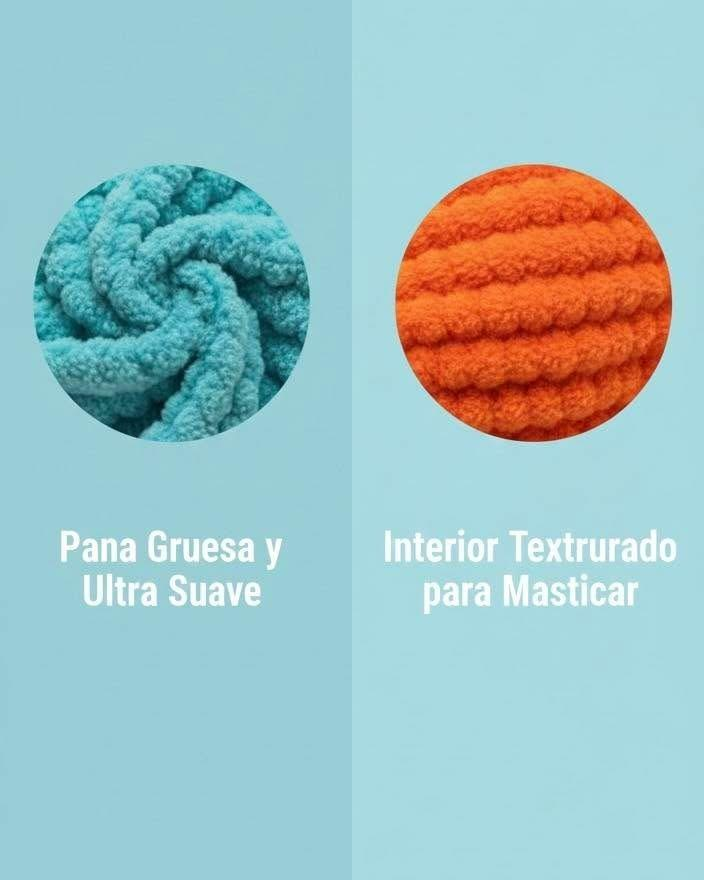non-dog: (392, 163, 675, 444), (33, 163, 311, 447)
